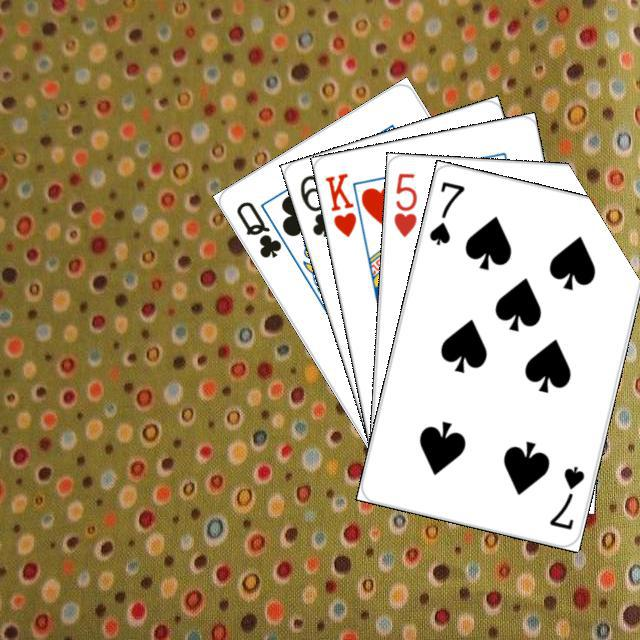5h: (389, 168, 419, 239)
6c: (295, 170, 337, 239)
7s: (424, 176, 466, 247), (544, 461, 586, 531)
Kh: (320, 168, 368, 242)
Qc: (231, 196, 294, 260)
